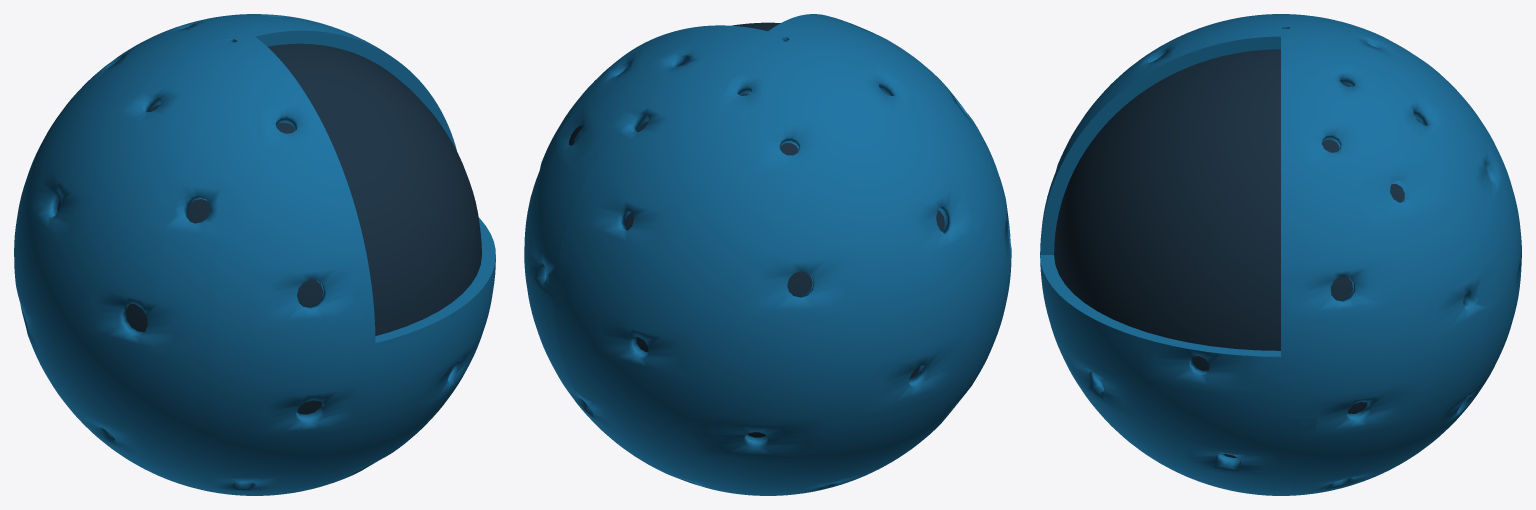
File: Nucleus.obj
3 renders of one model, left to right at view 1: azimuth 30°, elevation 25°; view 2: azimuth 150°, elevation 25°; view 3: azimuth 270°, elevation 25°, orthographic.
Parts seen in each view (by area): view 1: Nucleus Cell Envelope, Nucleoplasm Nucleus Cell; view 2: Nucleus Cell Envelope, Nucleoplasm Nucleus Cell; view 3: Nucleus Cell Envelope, Nucleoplasm Nucleus Cell.
Part boxes in pixels (x1=…): Nucleus Cell Envelope: x1=14, y1=14, x2=495, y2=495; Nucleoplasm Nucleus Cell: x1=57, y1=43, x2=481, y2=414; Nucleus Cell Envelope: x1=524, y1=14, x2=1011, y2=495; Nucleoplasm Nucleus Cell: x1=569, y1=22, x2=944, y2=437; Nucleus Cell Envelope: x1=1040, y1=14, x2=1521, y2=495; Nucleoplasm Nucleus Cell: x1=1054, y1=49, x2=1464, y2=458.
Bounding box in the file's own units: 49.94 × 49.94 × 49.92.
